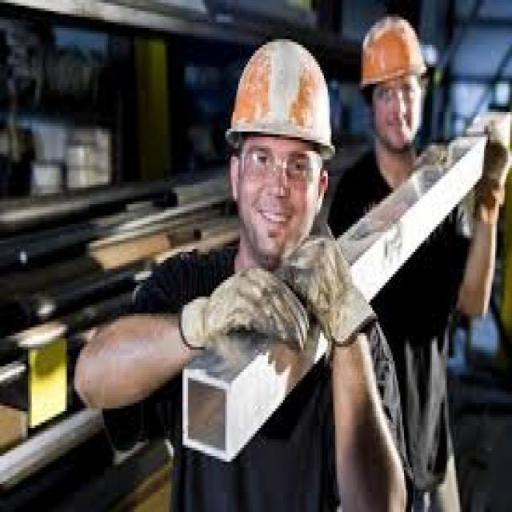Person: (68, 36, 420, 511), (84, 41, 412, 507), (341, 12, 467, 500), (339, 16, 510, 365)
gloves: (285, 234, 381, 340), (179, 275, 308, 345), (480, 118, 512, 228), (409, 136, 452, 174)
goggles: (235, 146, 321, 188), (374, 85, 426, 104)
helmet: (227, 37, 342, 154), (358, 16, 434, 83)
none: (125, 250, 410, 509), (330, 144, 464, 486)
